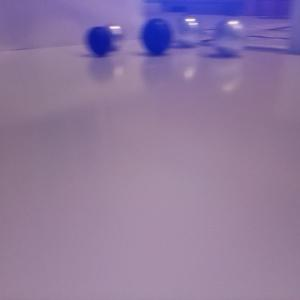alive_ball: (212, 18, 247, 56), (175, 16, 201, 47), (105, 24, 123, 50)
dead_ball: (142, 18, 172, 53), (87, 27, 112, 55)
